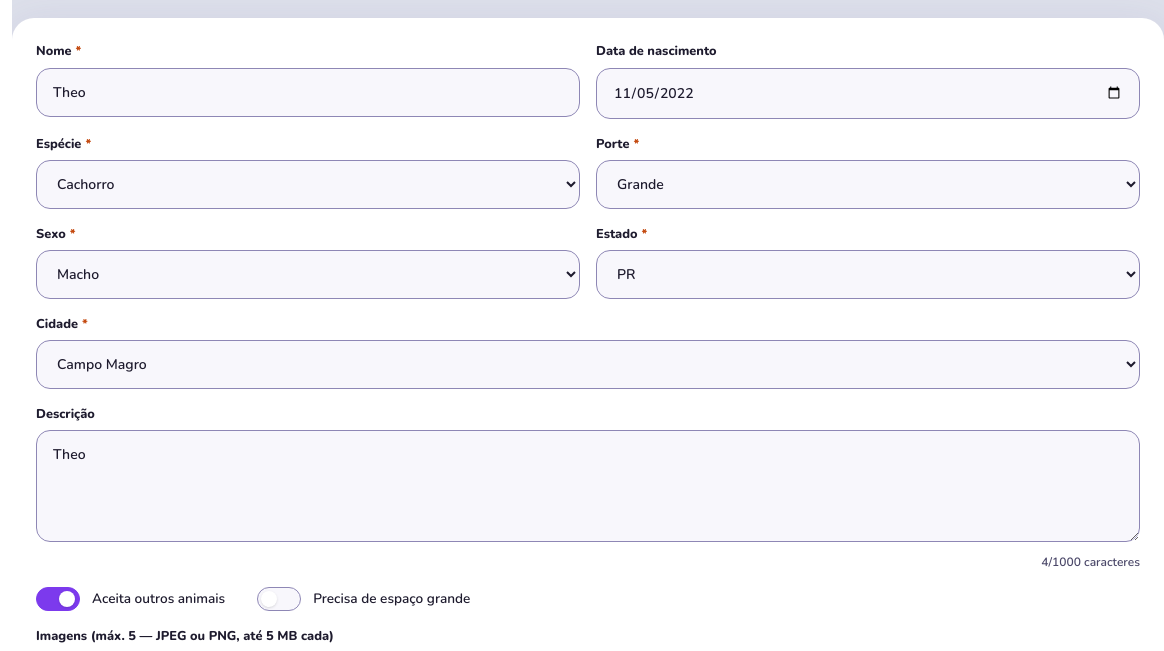
Test: tratamento de erro por `code` › CT-66/CA-29: `ANIMAL_STALE_UPDATE` exibe a mensagem da API e PRESERVA tudo o que estava preenchido
Replace the text in the field labelled "Nome*" with "Theo Editado". click: (308, 92)
box: [36,68,580,117]
(page scrolled)
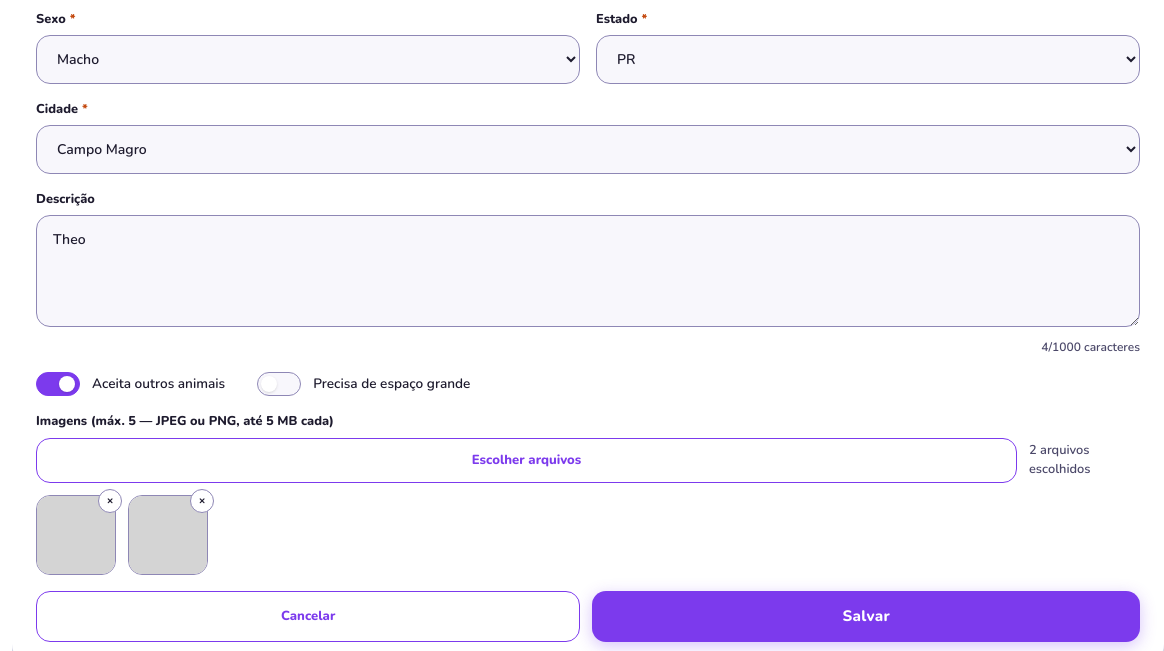
Click the button "Salvar". click: (866, 617)
box: [592,591,1140,642]
(page scrolled)
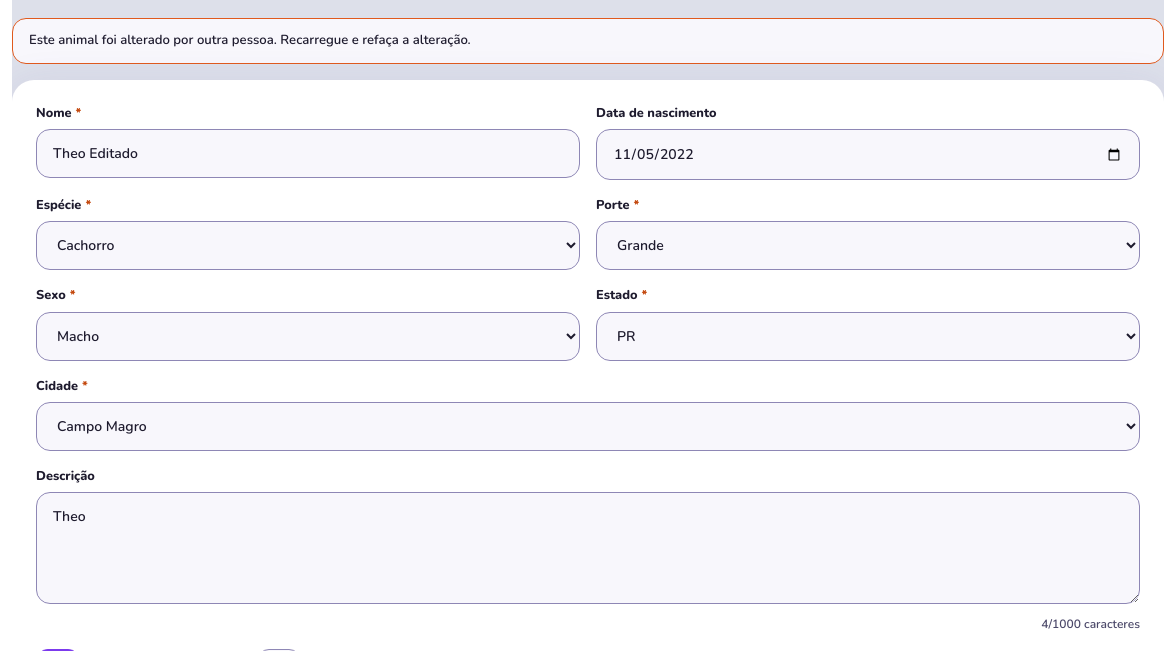
Expected: the date field labelled "Data de nascimento" holds "2022-11-05", [596,129,1140,180]
Result: the text "Este animal foi alterado por outra pessoa. Recarregue e refaça a alteração." is shown at [12,18,1163,64]
